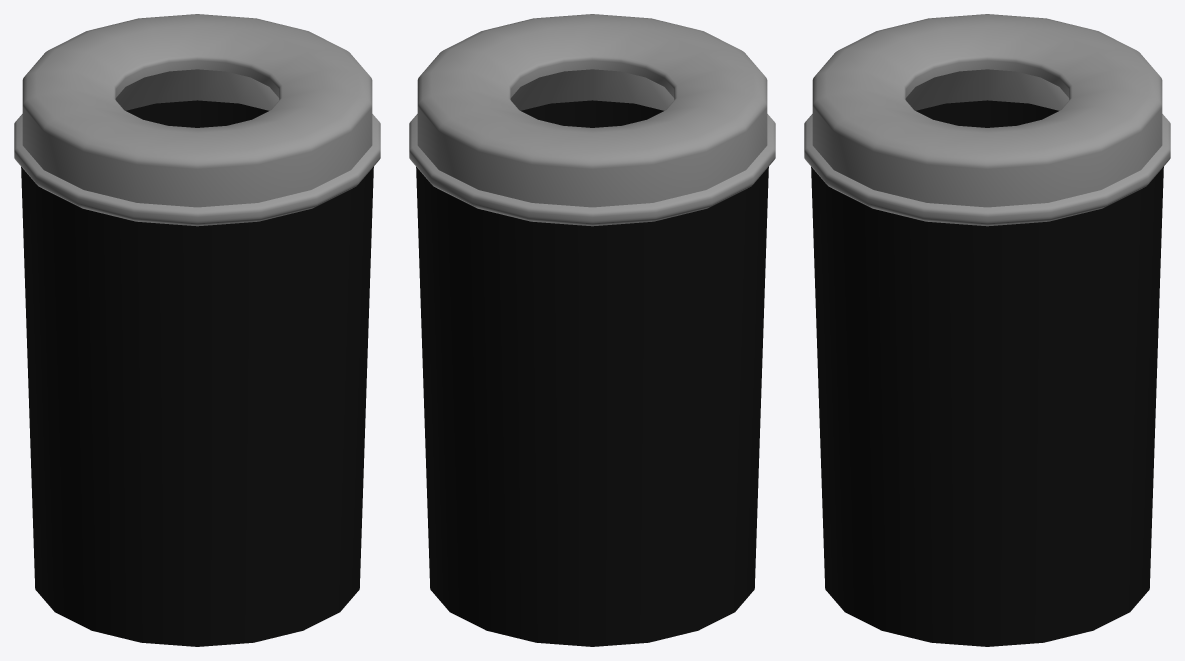
Rendered from Bin.FBX.
3 renders of one model, left to right at view 1: azimuth 30°, elevation 25°; view 2: azimuth 150°, elevation 25°; view 3: azimuth 270°, elevation 25°, orthographic.
Parts seen in each view (by area): view 1: Bin; view 2: Bin; view 3: Bin.
Part boxes in pixels (left/top/right/bottom): Bin: left=14, top=14, right=380, bottom=646; Bin: left=409, top=14, right=775, bottom=646; Bin: left=804, top=14, right=1170, bottom=646.
Bounding box in the file's own units: 27.13 × 40.04 × 26.72.
2 materials, 1 textured.
